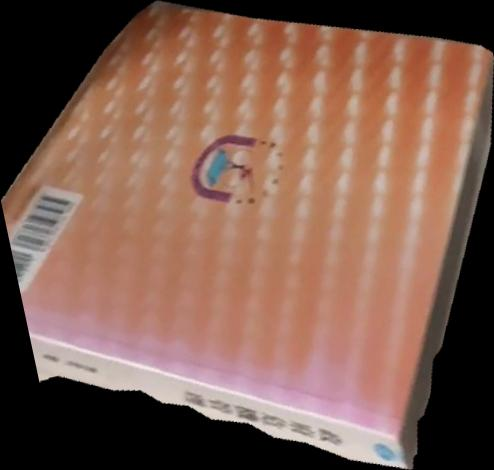flat: (1, 1, 494, 470)
